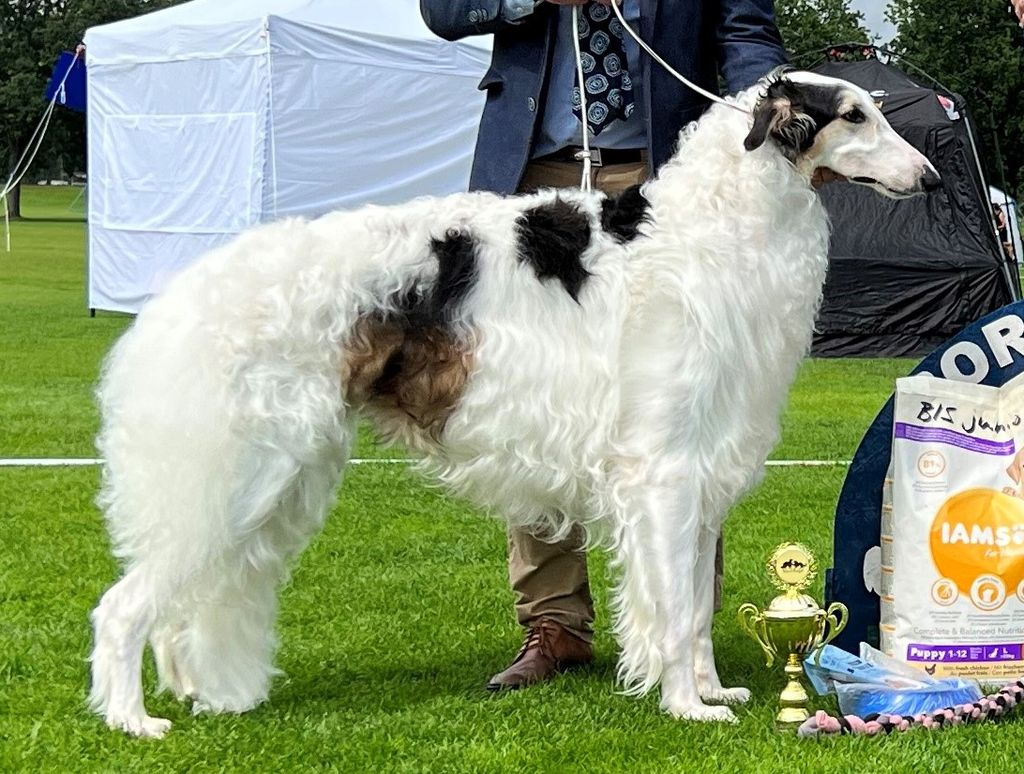borzoi: (86, 72, 942, 740)
